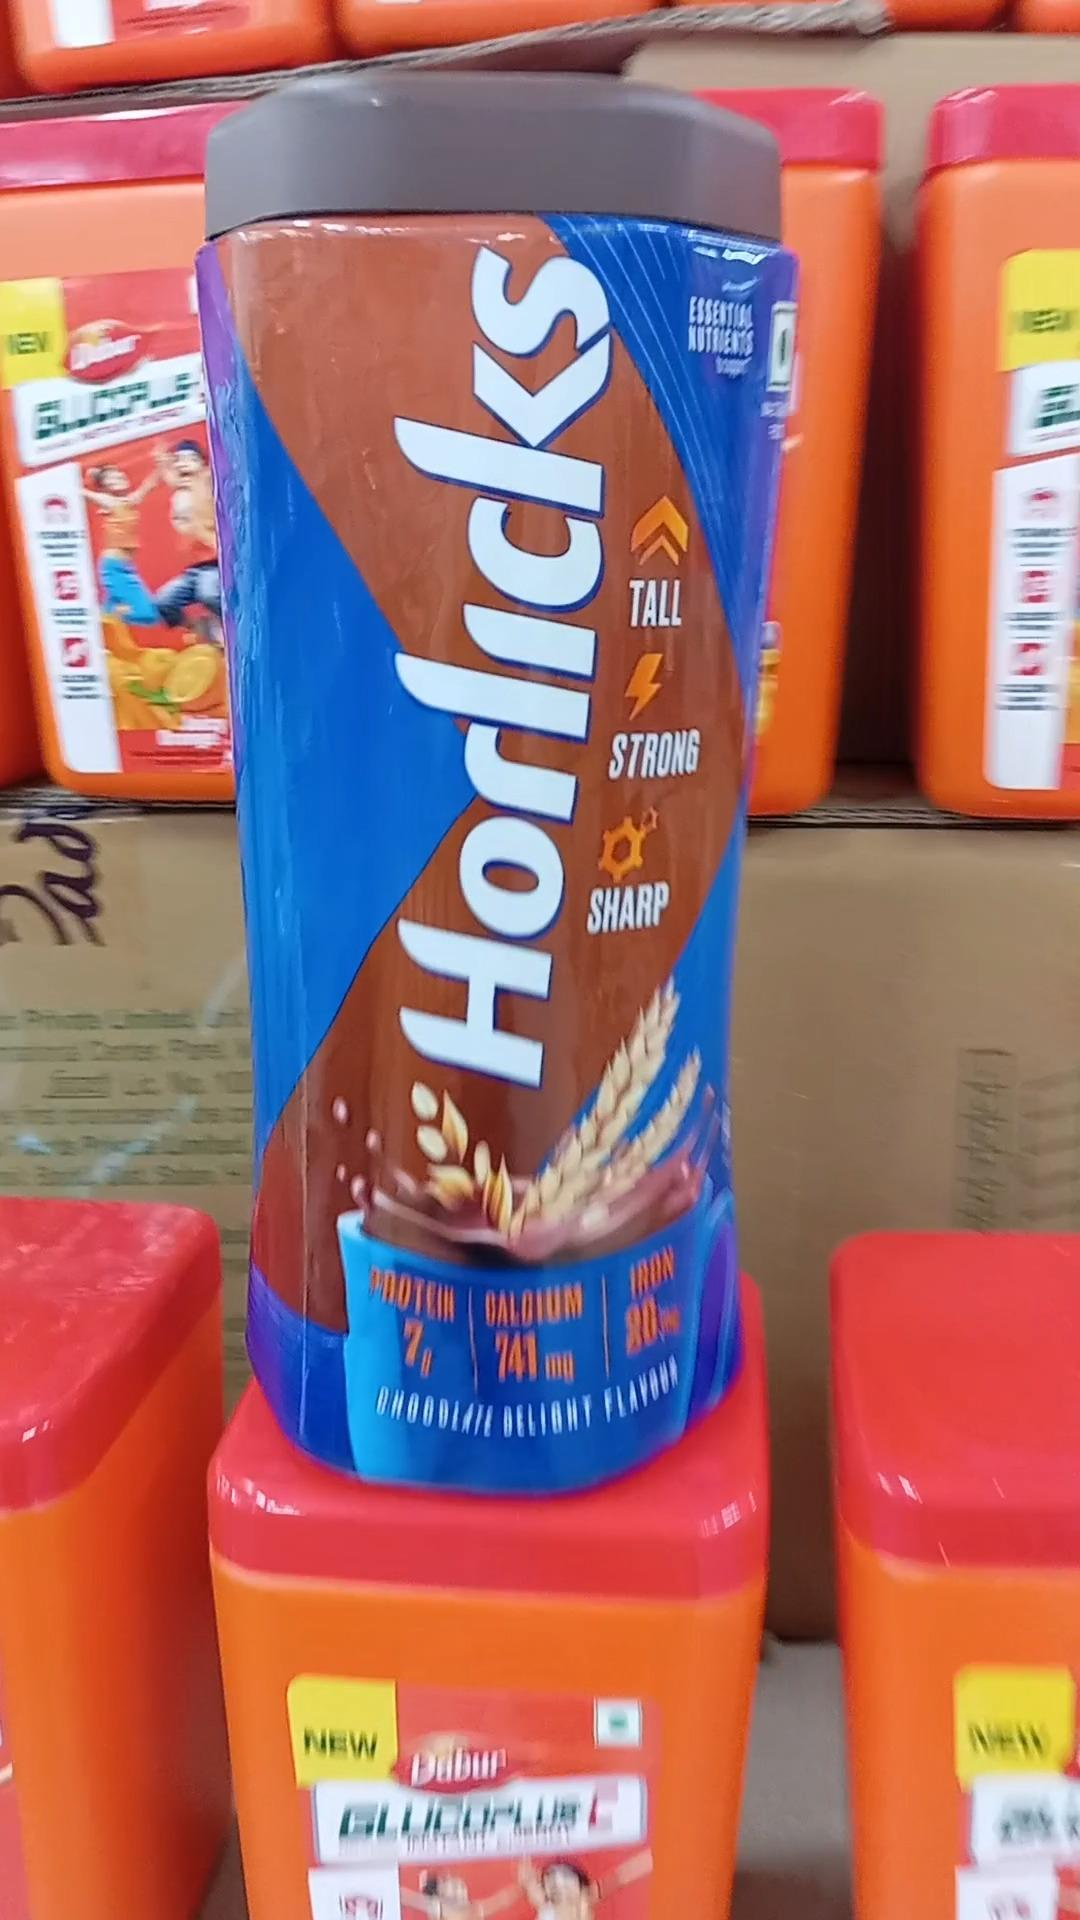HORLICK_CHOCOLATE_1_KG_JAR: (193, 63, 798, 1497)
